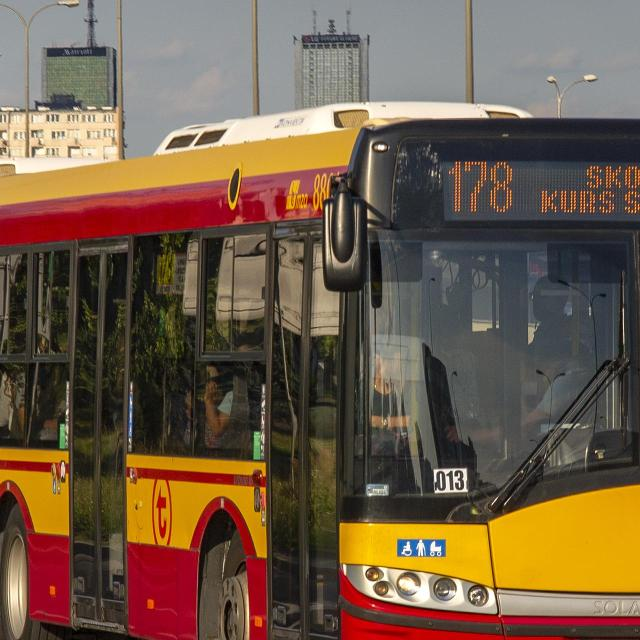Bus: (0, 102, 640, 640)
